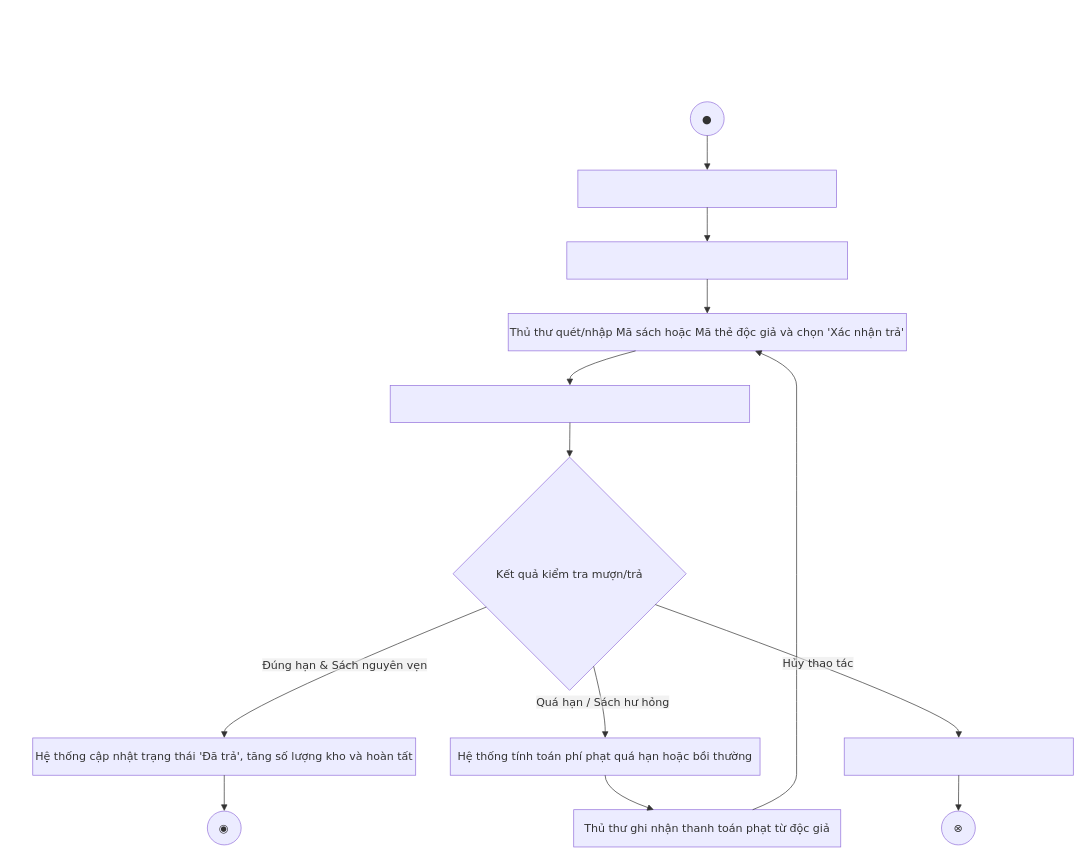
Image size: 1085x859. Some labels were removed from this diagram. Here are the shapes that lost their labels. From the top down, the box of each, then its label:
(577, 169, 837, 207): Thủ thư chọn chức năng 'Ghi nhận trả sách'
(566, 241, 848, 279): Hệ thống hiển thị form tra cứu phiếu mượn/trả
(390, 385, 750, 423): Hệ thống kiểm tra hạn trả và tình trạng sách trong phiếu mượn
(844, 737, 1073, 775): Thủ thư thoát khỏi giao diện trả sách
